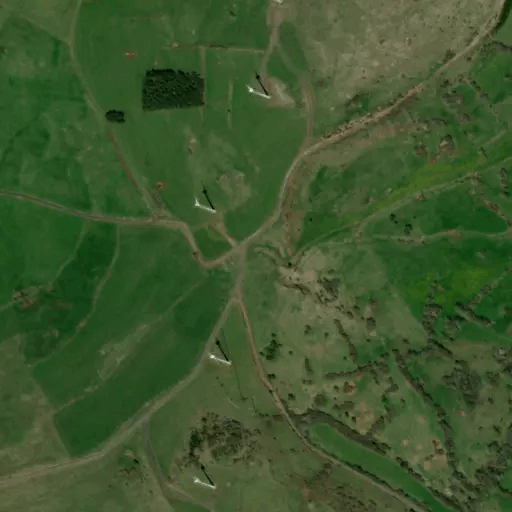wt: (181, 178, 225, 220), (180, 458, 225, 493), (193, 335, 239, 369), (237, 67, 279, 102)
